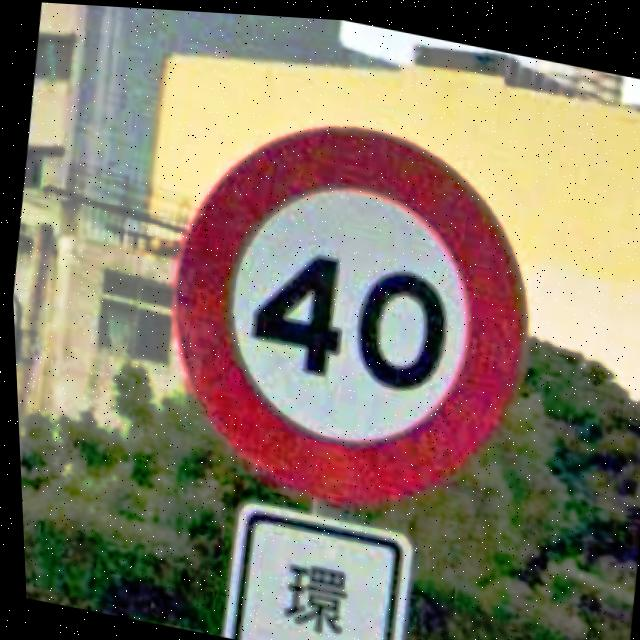max40: (136, 85, 559, 536)
